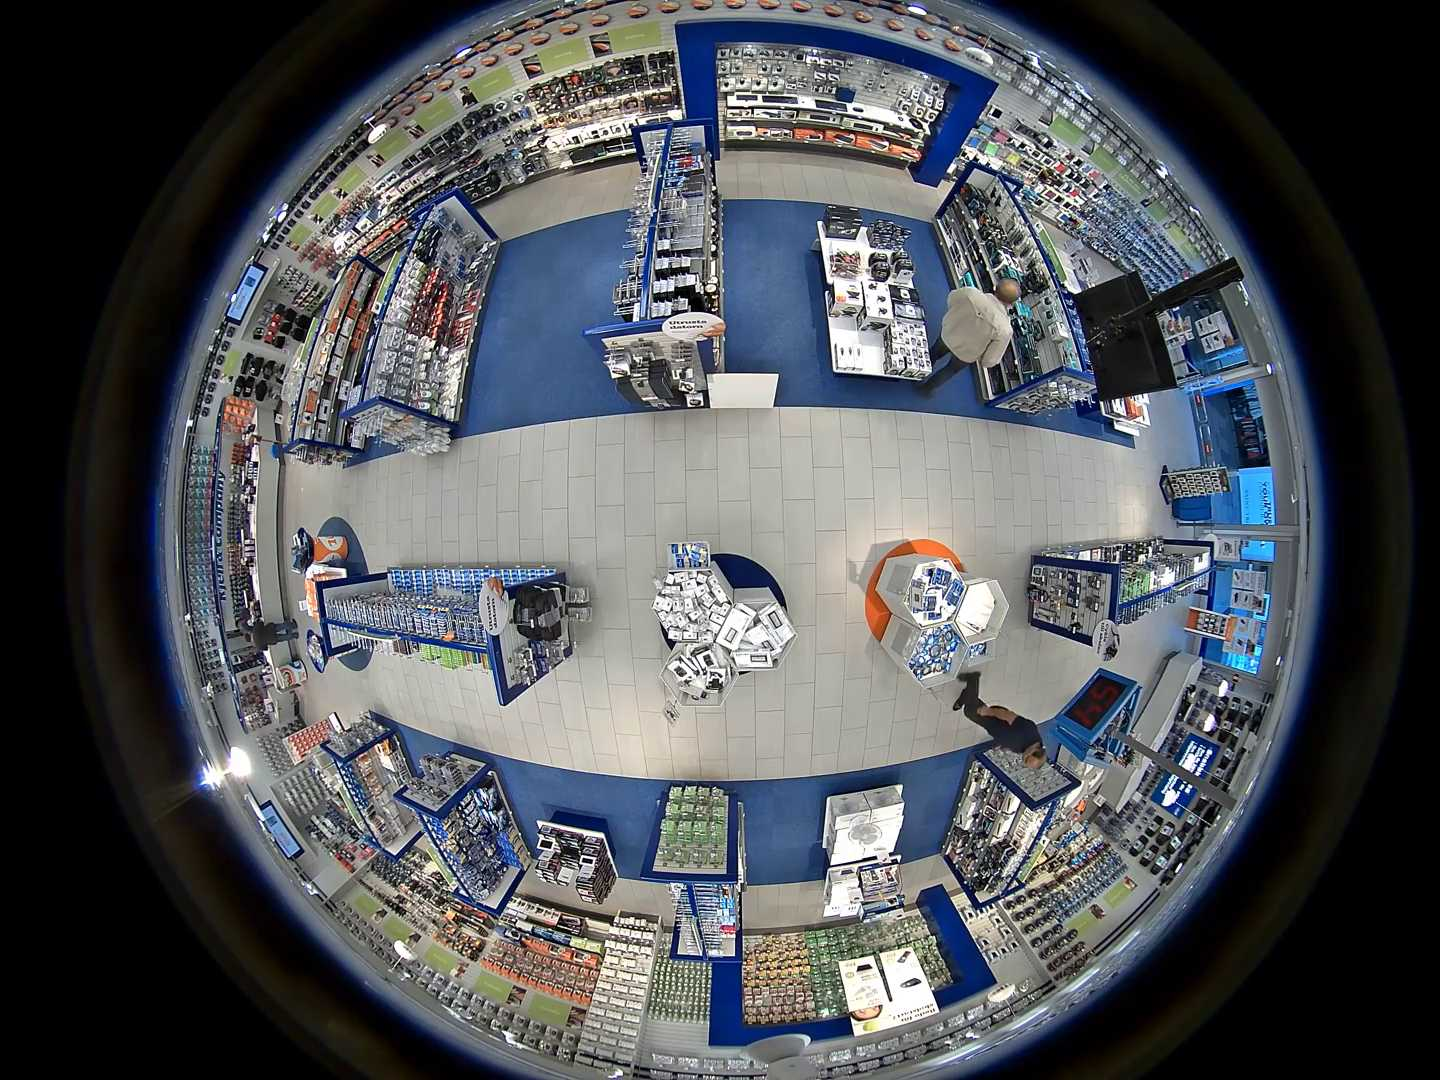person: (913, 276, 1021, 398), (953, 670, 1047, 771), (245, 617, 299, 650), (235, 609, 254, 634)
